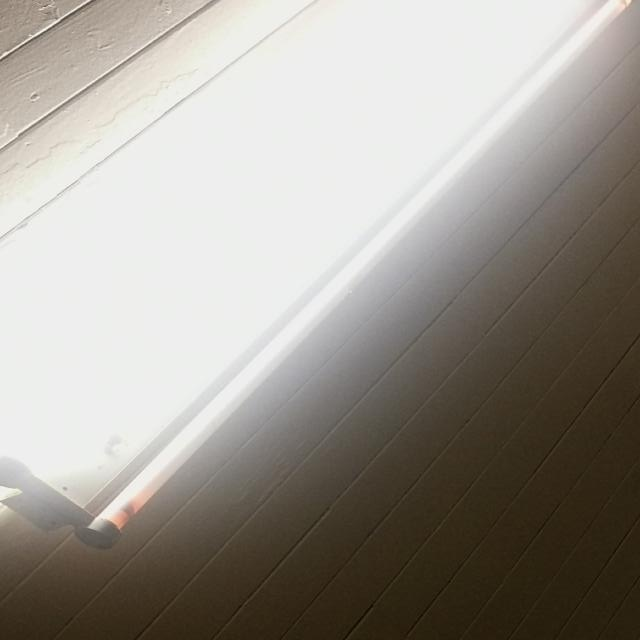fluorescent tube: (2, 0, 640, 590)
